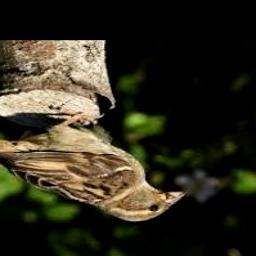Sparrow: (0, 115, 185, 223)
